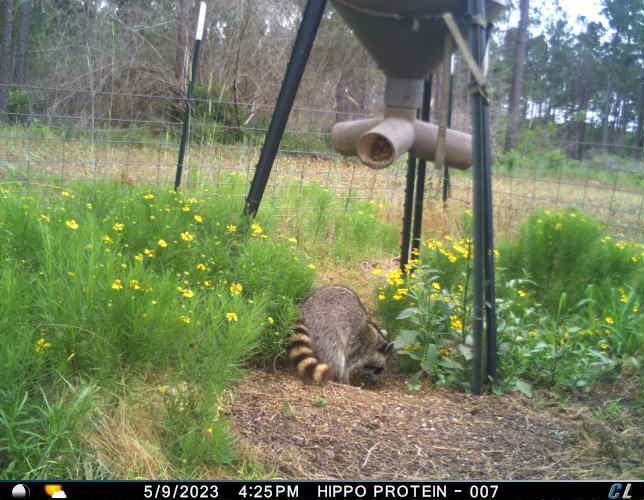Raccoon: (287, 281, 399, 390)
